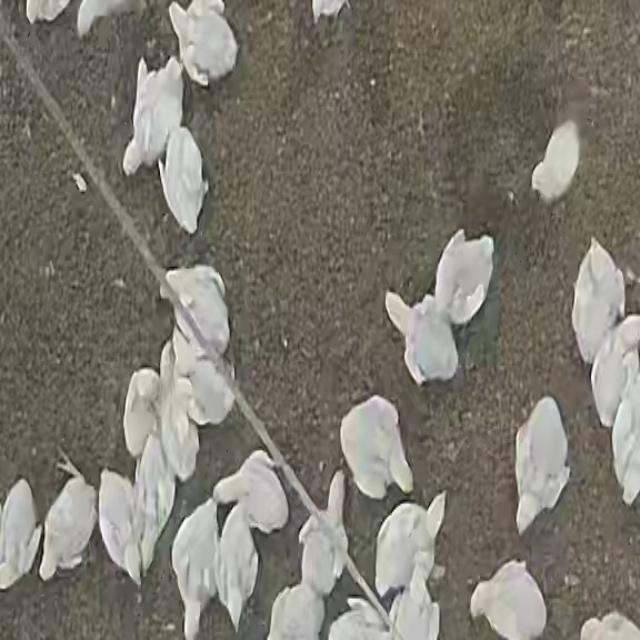chicken: (338, 394, 411, 502), (512, 396, 569, 530), (37, 459, 97, 582), (171, 498, 222, 638), (121, 57, 181, 173), (294, 475, 350, 599), (386, 290, 458, 386), (163, 264, 231, 364), (571, 238, 624, 366), (374, 498, 437, 604), (212, 451, 290, 535), (468, 560, 548, 640), (133, 429, 179, 568), (216, 497, 262, 631), (157, 344, 202, 480), (434, 228, 495, 327), (169, 0, 236, 87), (589, 314, 637, 430), (97, 467, 143, 585), (159, 125, 208, 233), (0, 476, 40, 588), (180, 352, 236, 432), (611, 354, 640, 505), (532, 119, 580, 203), (387, 563, 439, 640), (122, 366, 162, 458), (266, 583, 326, 637), (76, 1, 144, 38)
